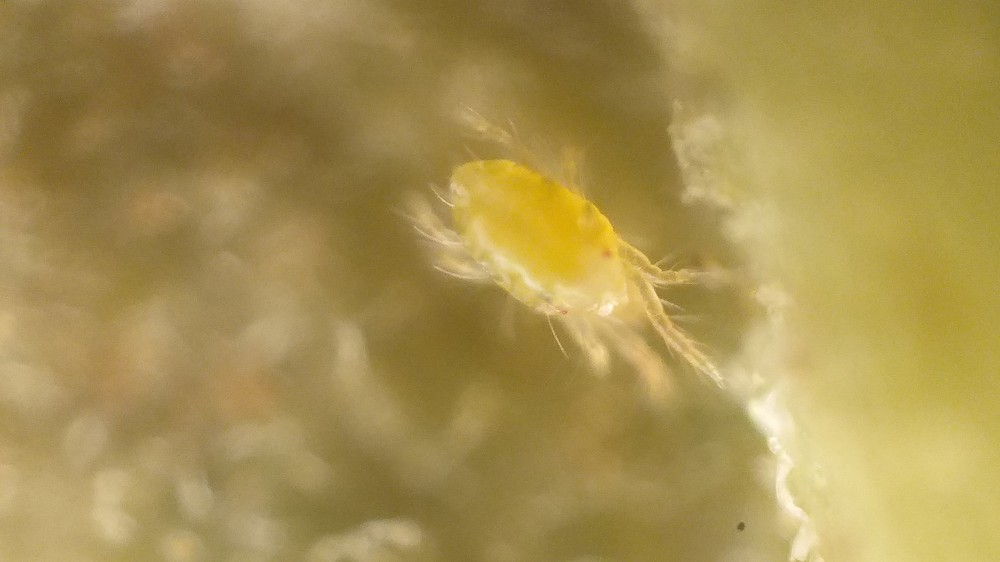Aracnido Rojo: (395, 108, 770, 419)
